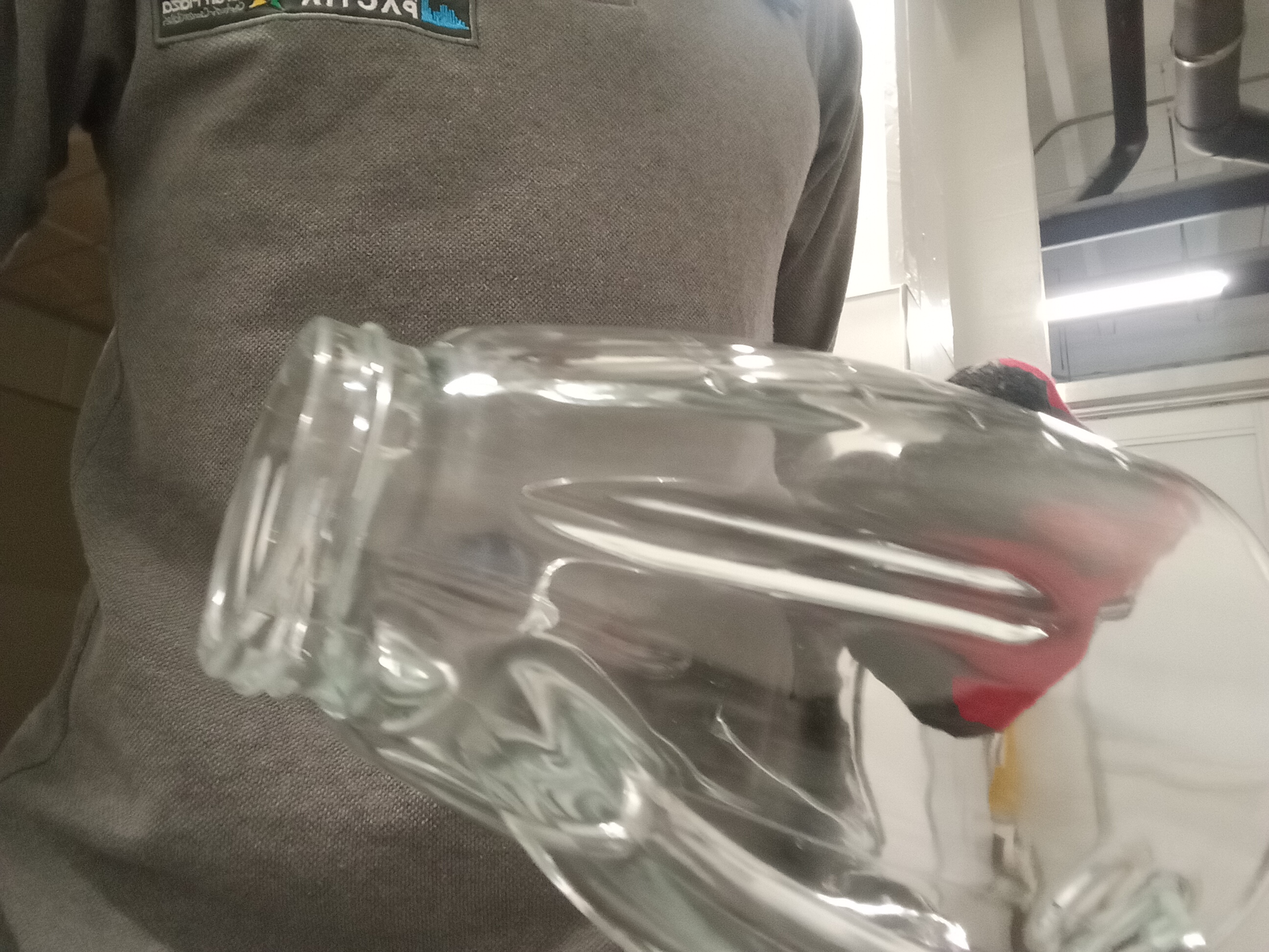Vidrio: (194, 315, 1269, 952)
